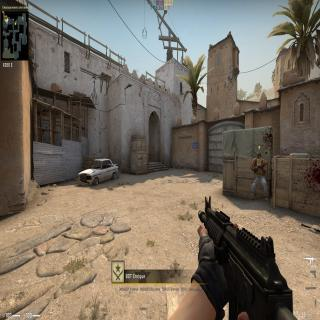T-Head: (257, 154, 262, 162)
